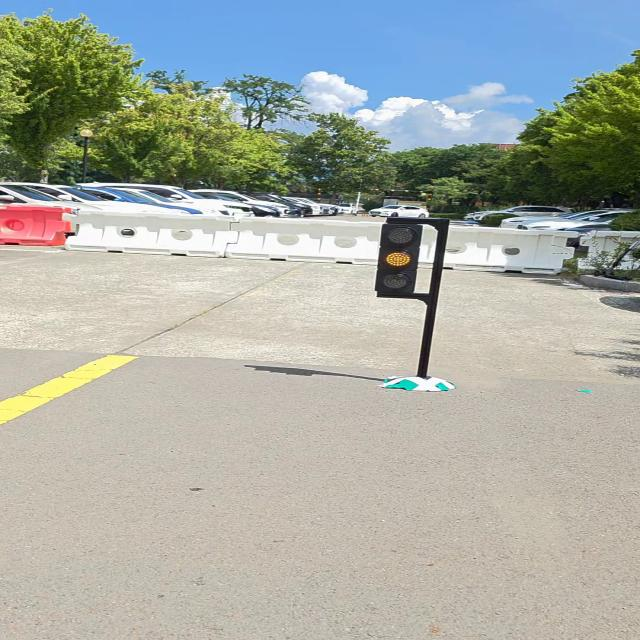yellow: (379, 223, 417, 294)
